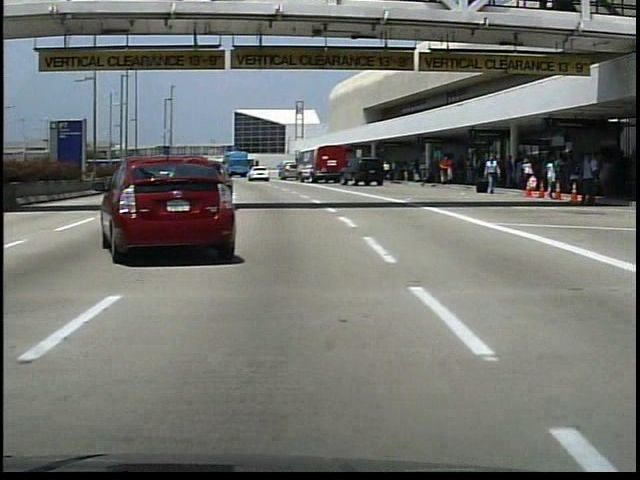person: (575, 155, 594, 206), (482, 154, 502, 195), (437, 156, 453, 185), (381, 161, 392, 183)
